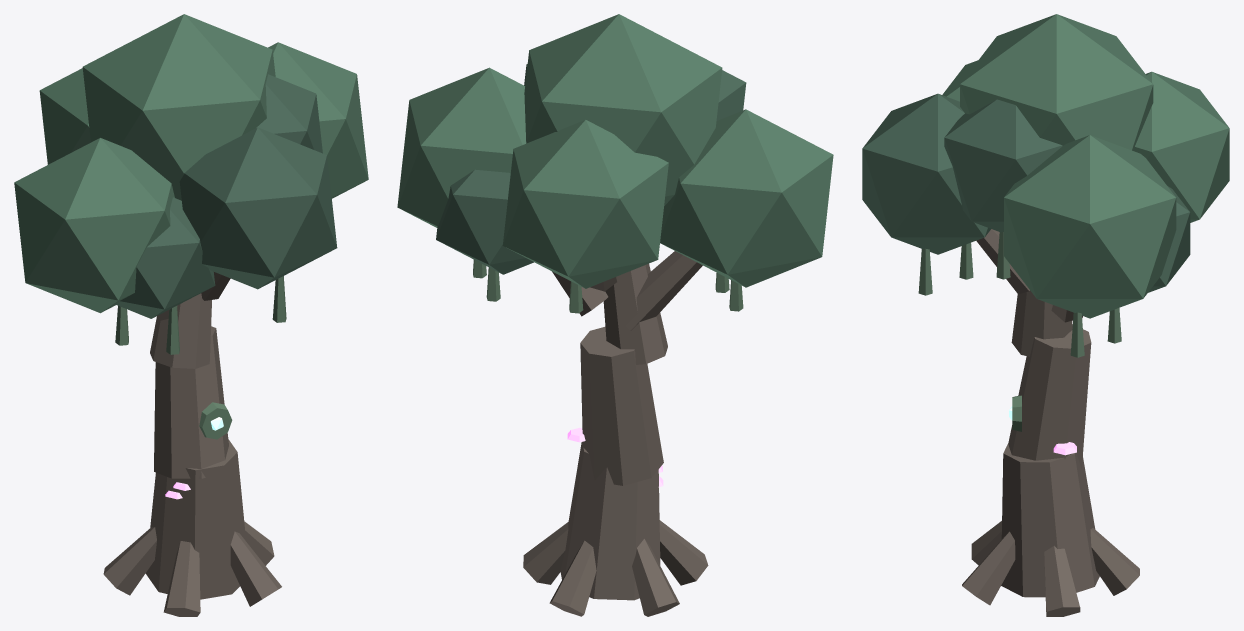
Rendered from outdoor_tree.glb.
3 views of the same model, side by side, from view 1: azimuth 30°, elevation 25°; view 2: azimuth 150°, elevation 25°; view 3: azimuth 270°, elevation 25° (orthographic). The views are drawn at different scales.
Visible parts, largest first — view 1: Outdoor_Tree; view 2: Outdoor_Tree; view 3: Outdoor_Tree.
Boxes of the visible parts, x1,y1,x2,y2 form: Outdoor_Tree: (14,14,368,616); Outdoor_Tree: (397,14,833,616); Outdoor_Tree: (862,14,1229,616).
Size of the model in its own units: 3.43 by 5.11 by 2.97.
